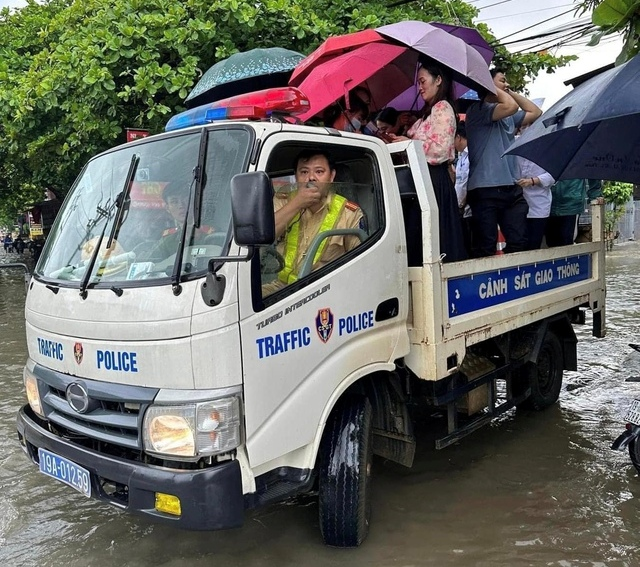xe_tai: (11, 87, 624, 548)
